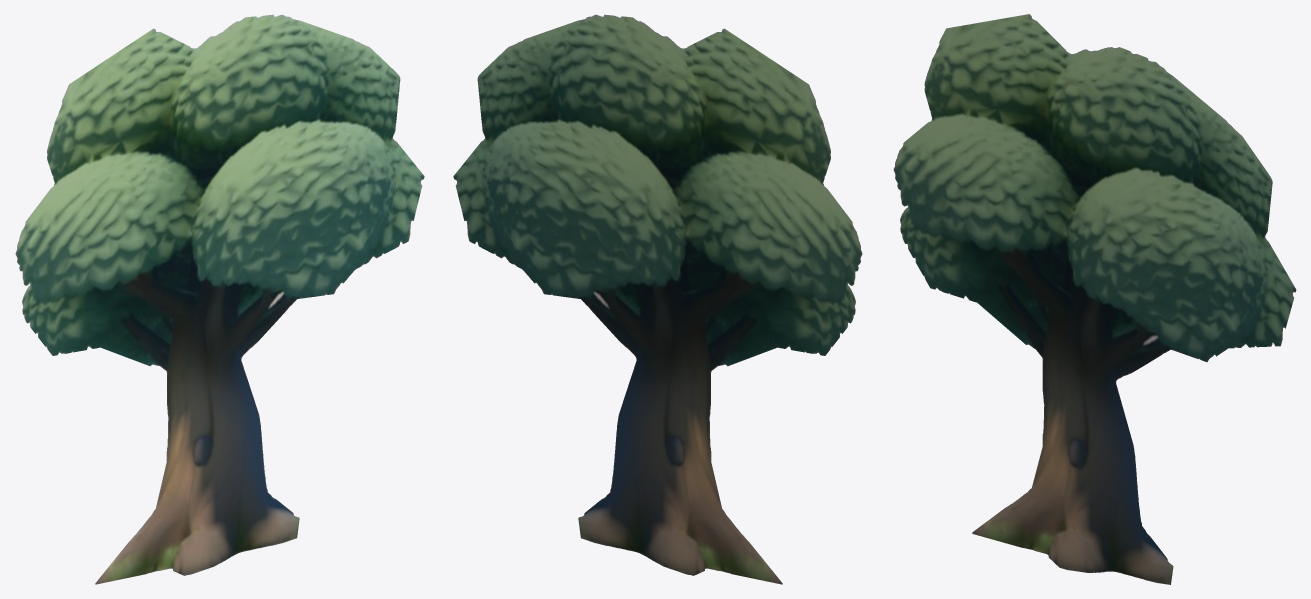
Rendered from billboard (2).glb.
3 views of the same model, side by side, from view 1: azimuth 30°, elevation 25°; view 2: azimuth 150°, elevation 25°; view 3: azimuth 330°, elevation 25° (orthographic).
Visible parts, largest first — view 1: Billboard; view 2: Billboard; view 3: Billboard.
Boxes of the visible parts, box(x1,y1,x2,y2) form: Billboard: box(15, 14, 424, 584); Billboard: box(453, 14, 862, 584); Billboard: box(893, 14, 1296, 584).
Size of the model in its own units: 0.6895 by 0.8927 by 0.
Materials: 1 (1 with a texture image).
